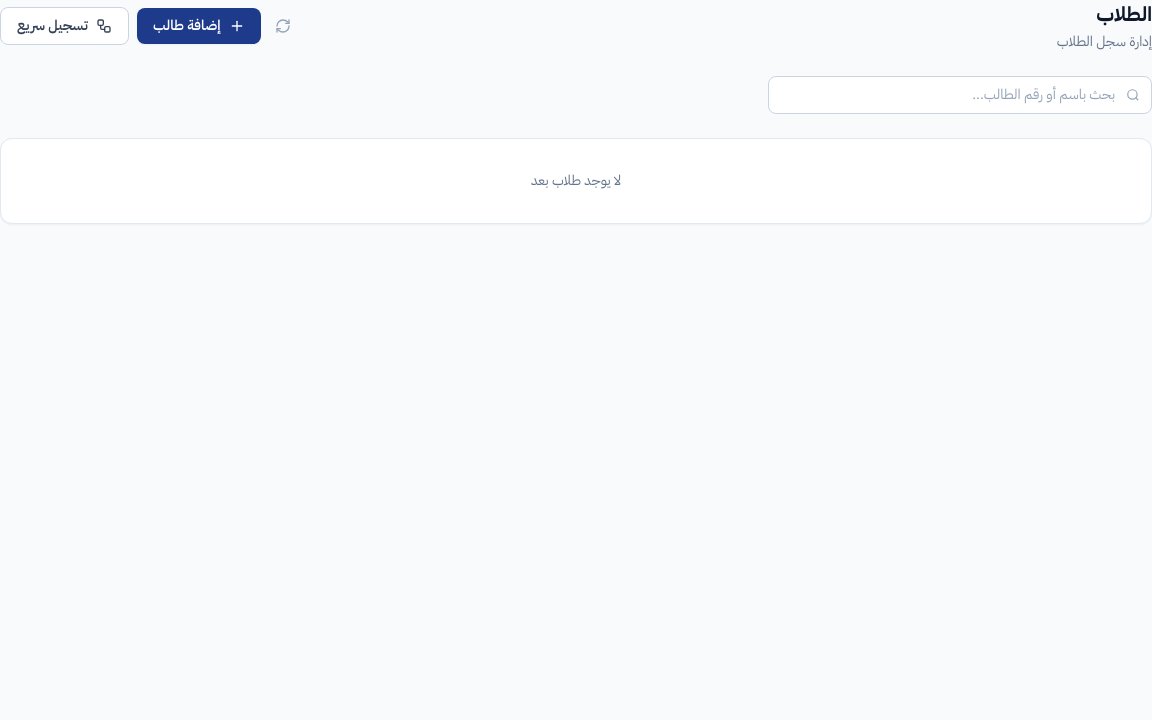
Test case: add-student errors render inside the modal › shows the save error inside the open modal, not behind it
Open the add-student modal.
Click the button "إضافة طالب" at point(199, 26), box [137, 8, 260, 44]
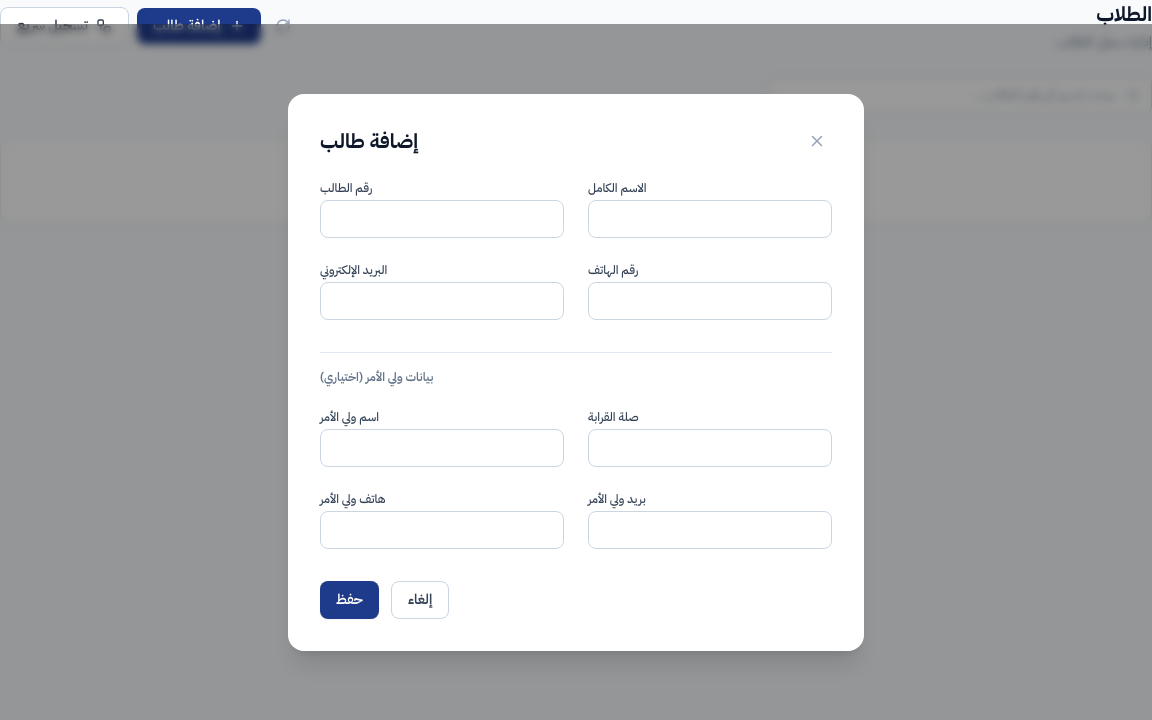
Expected: the element with class "z-50" is shown
A valid Arabic name passes the client-side validateName gate.
Type "أحمد علي" into the field below "الاسم الكامل" at point(710, 218), box [588, 200, 832, 238]
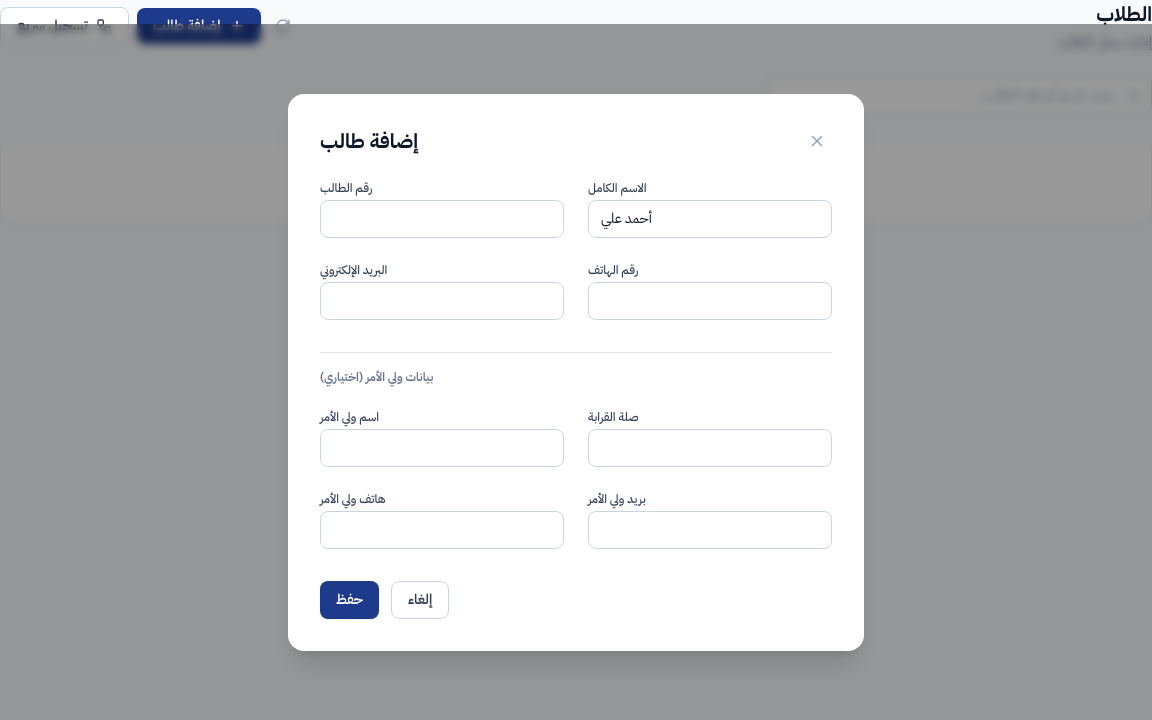
Type "STU001" into the field below "رقم الطالب" at point(442, 218), box [320, 200, 564, 238]
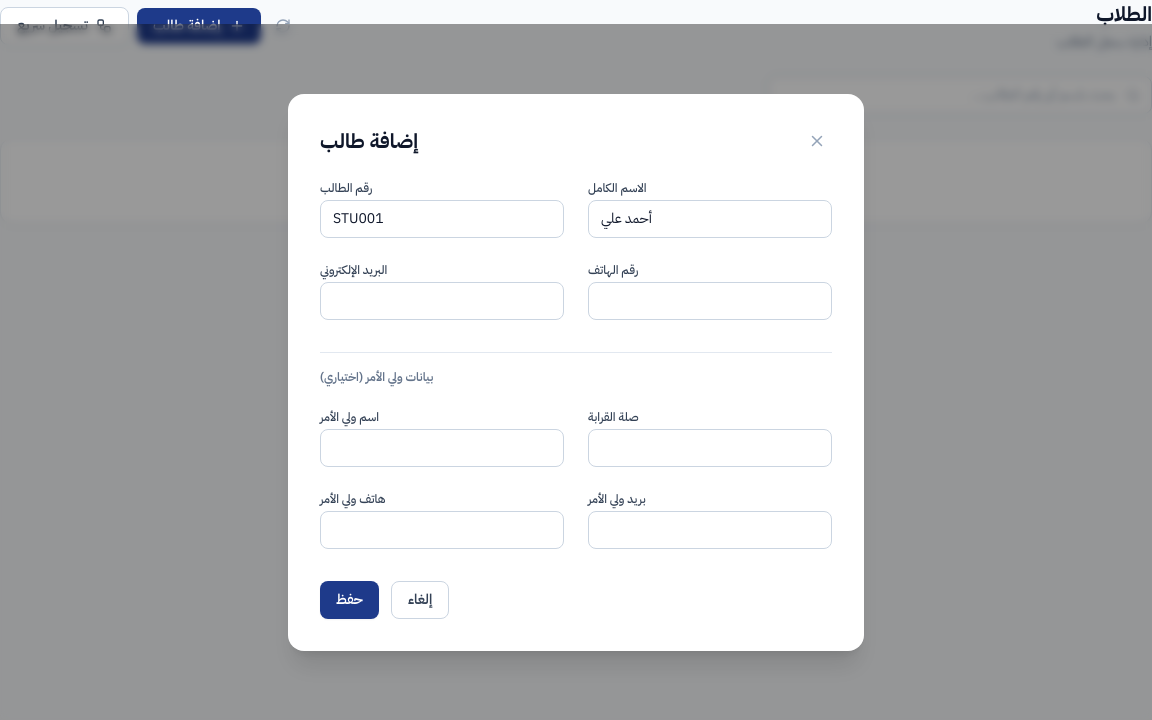
Click the button "حفظ" at point(349, 600), box [320, 580, 379, 618]
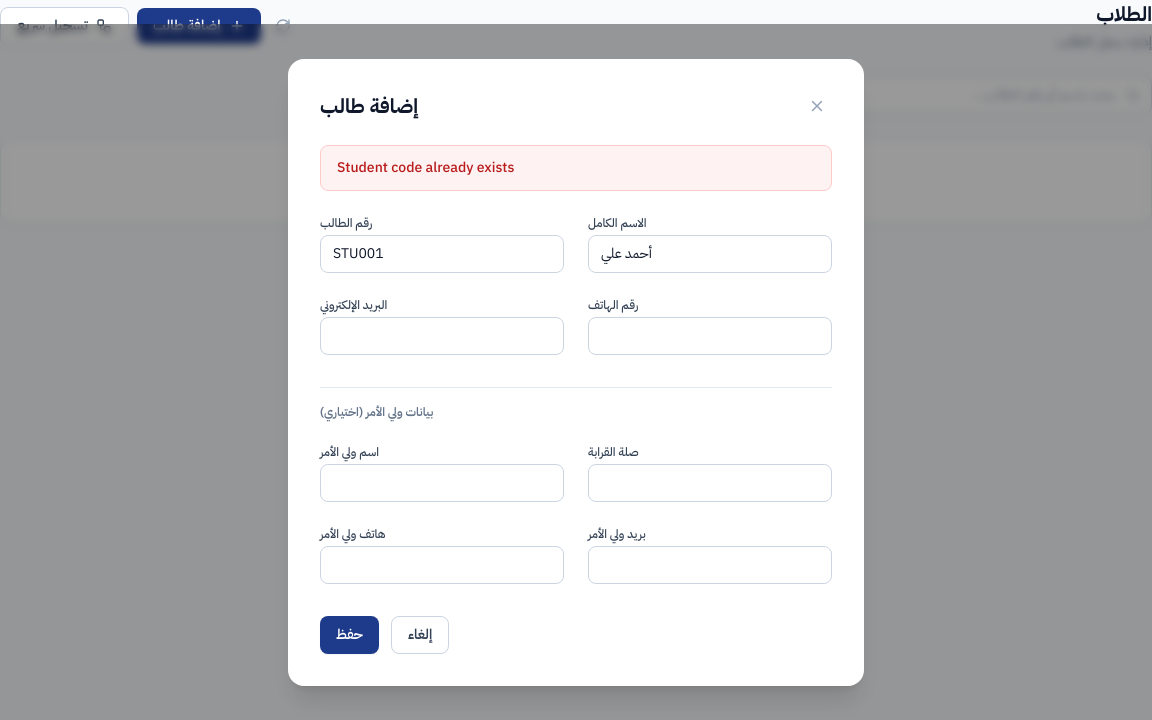
Expected: the element with class "z-50" is shown
Expected: the button "حفظ" is shown, [320, 616, 379, 654]
Expected: the text "Student code already exists" is shown, [320, 144, 832, 190]
